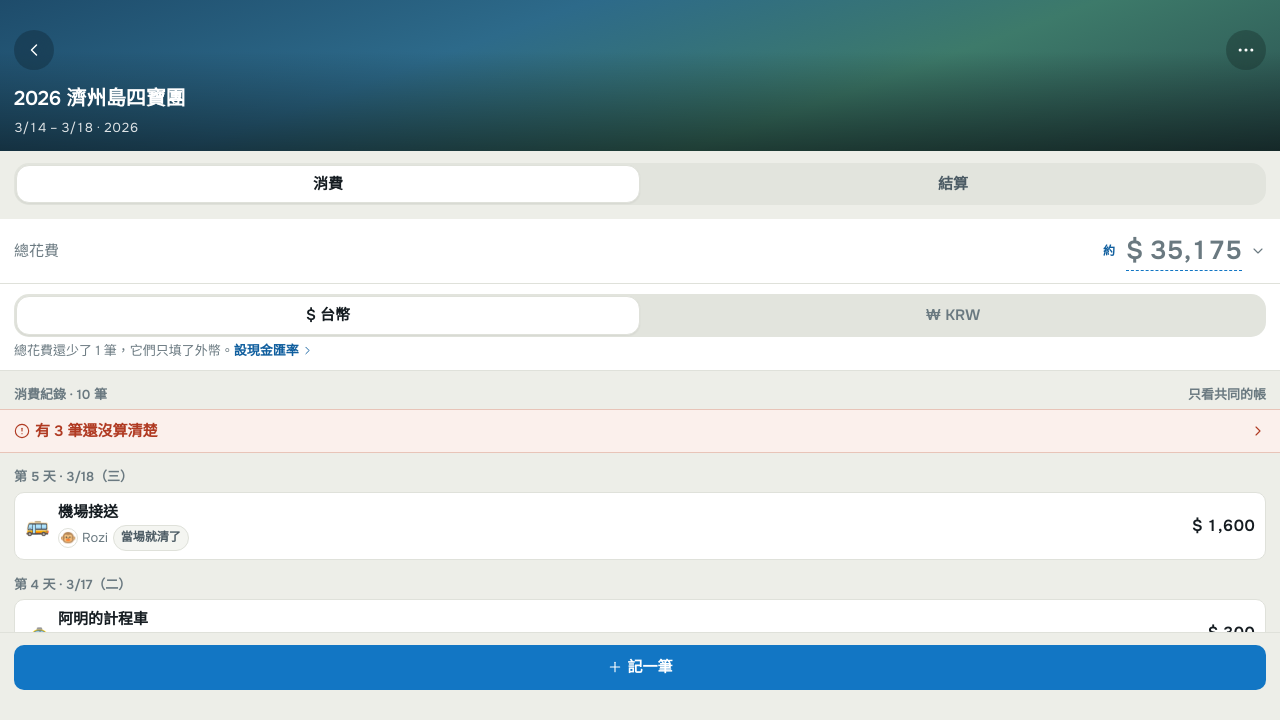
Test: D-②　S-03b 分享 sheet 對齊原型 › 三個選項的標題與灰字逐字等於原型
Click the button named "更多". click: click(1246, 50)
box: 1226,30 -> 1266,70
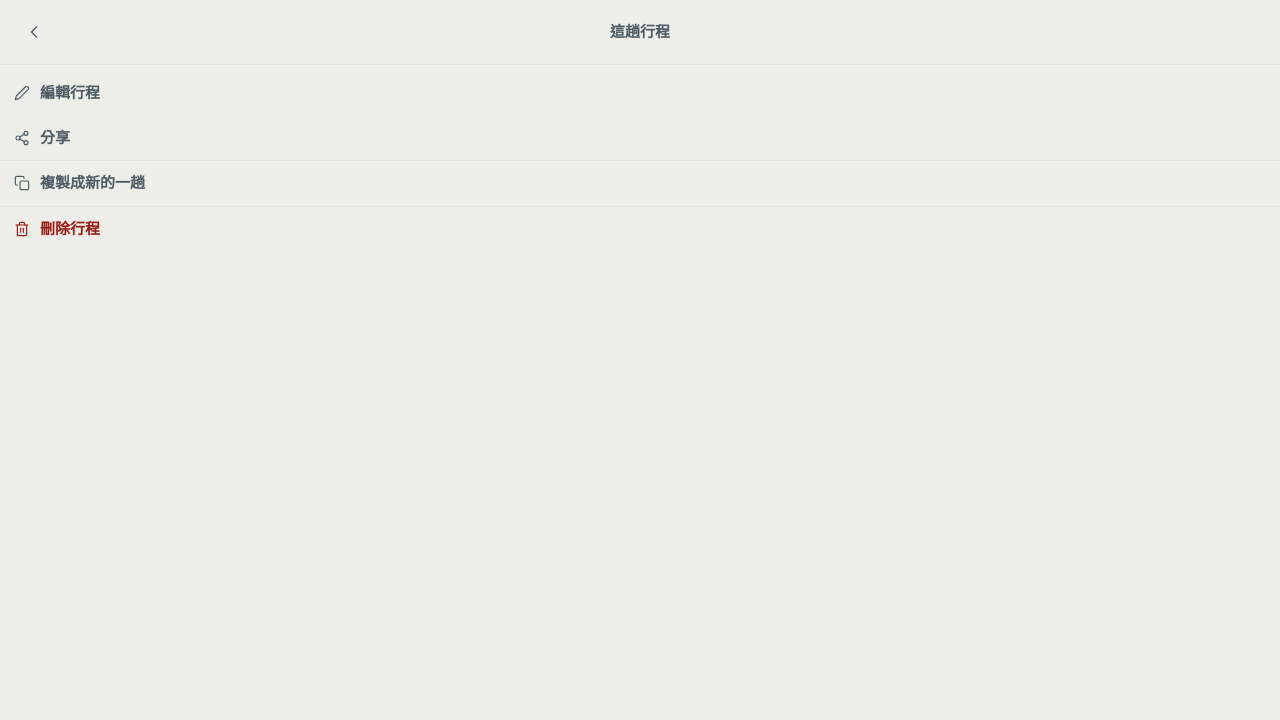
Click the button "分享". click: click(55, 138)
box: 14,116 -> 1266,160
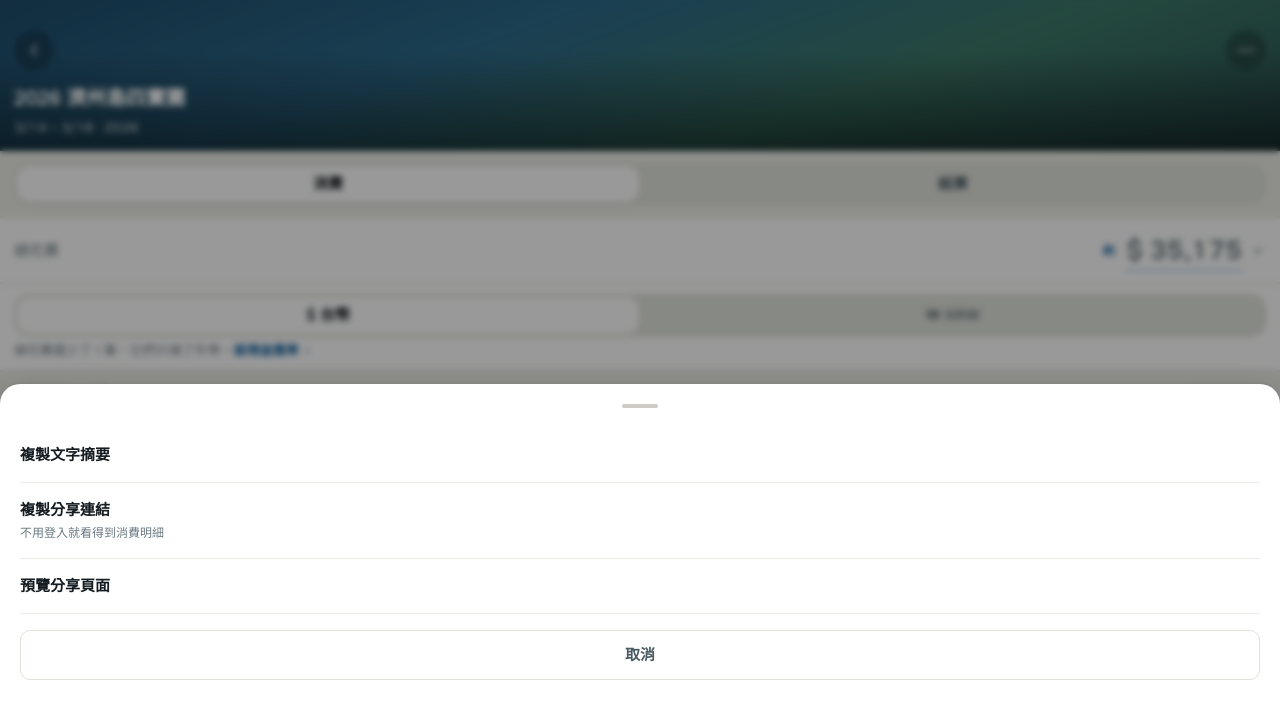
Result: the text "複製文字摘要" is shown at 20,444 -> 110,464
Result: the text "複製分享連結" is shown at 20,500 -> 110,520
Result: the text "預覽分享頁面" is shown at 20,576 -> 110,596
